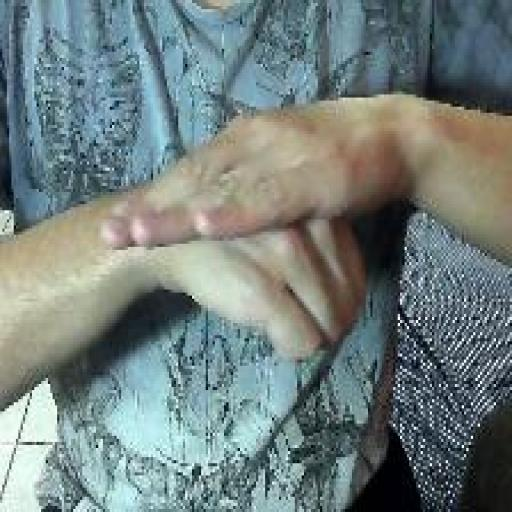Inu -dog-: (97, 94, 372, 366)
